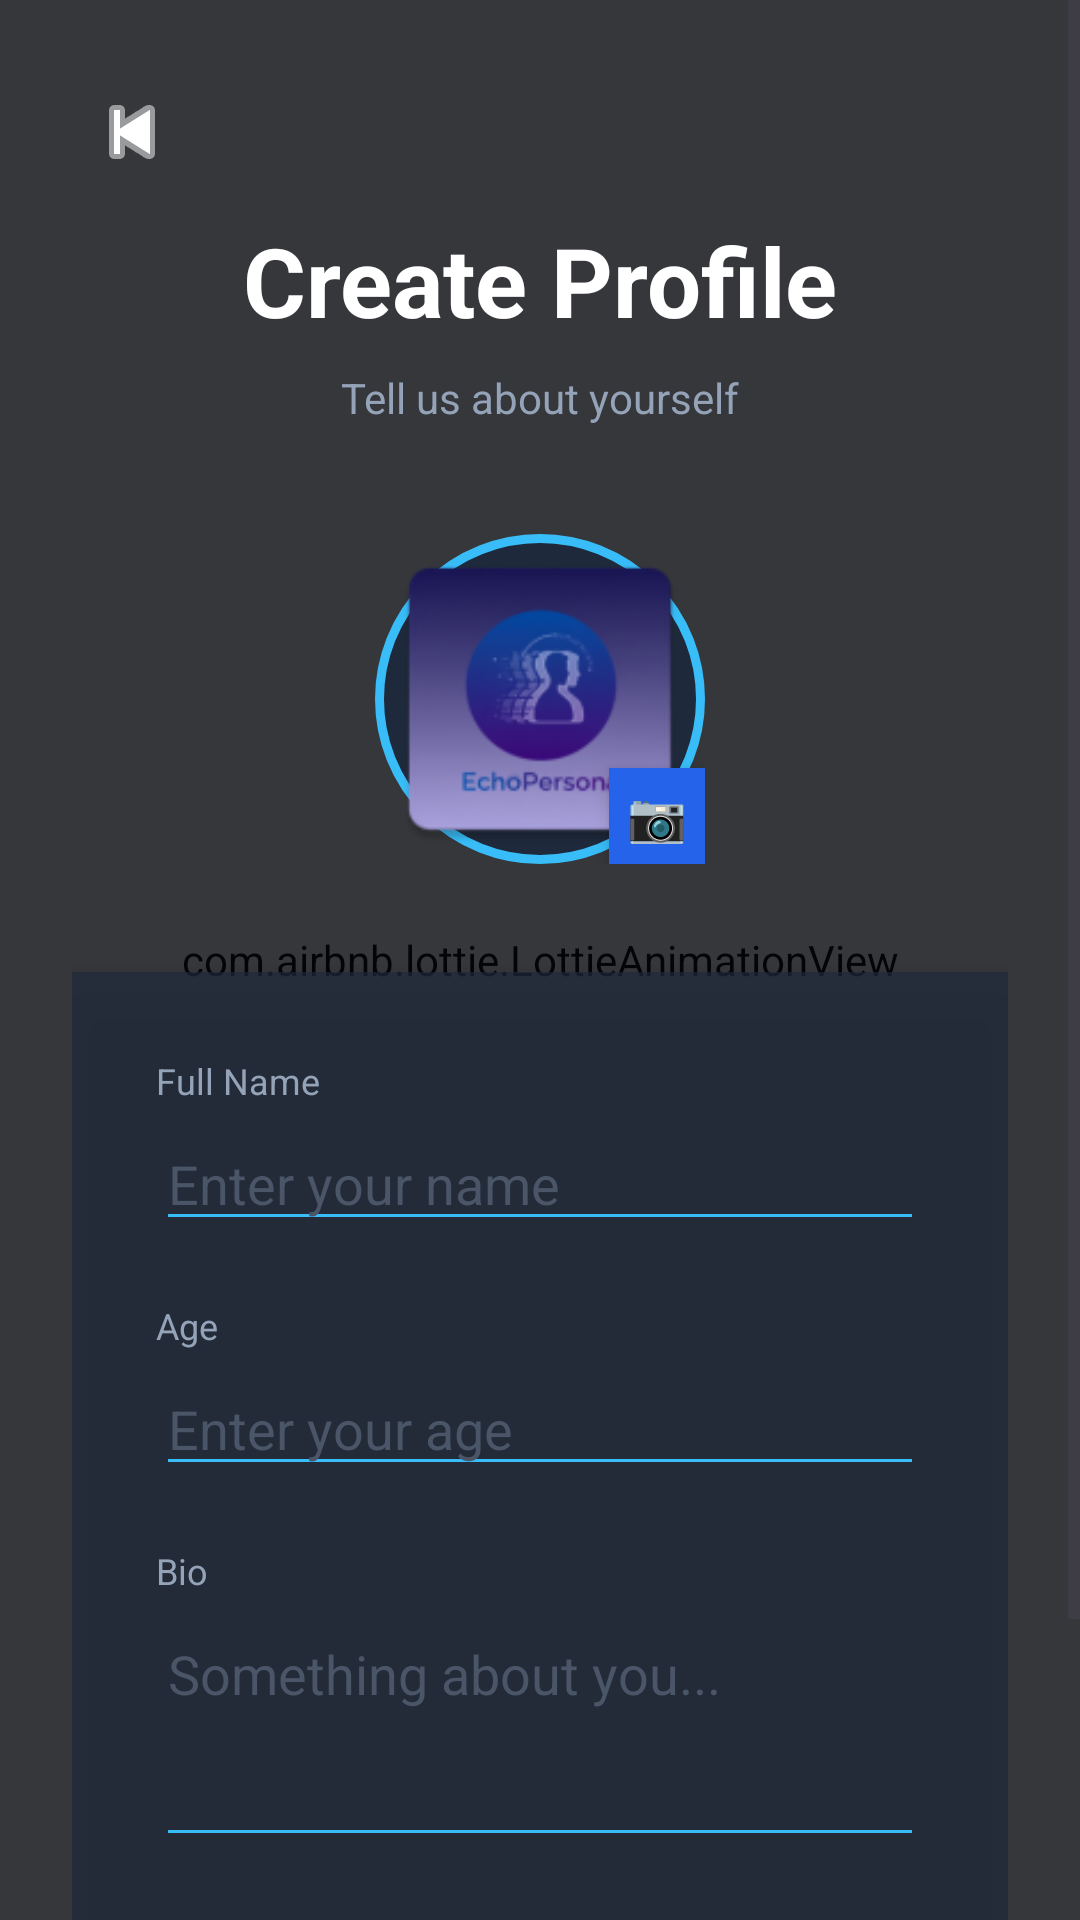

Icons on this 1080*1920 Android screen, each with its box as (x1, y1, x2, y2):
previous: (109, 105, 155, 159)
